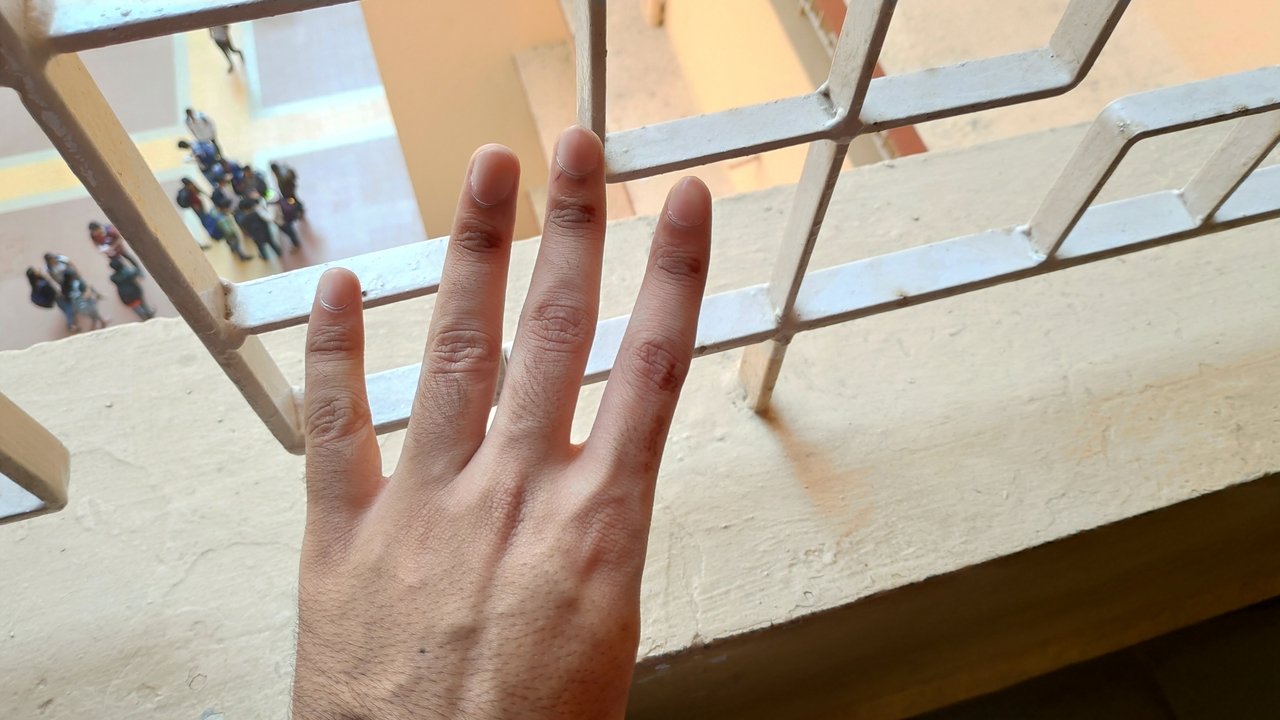fingertip: (454, 136, 522, 198), (656, 168, 716, 232), (542, 122, 606, 178), (304, 260, 356, 314)
